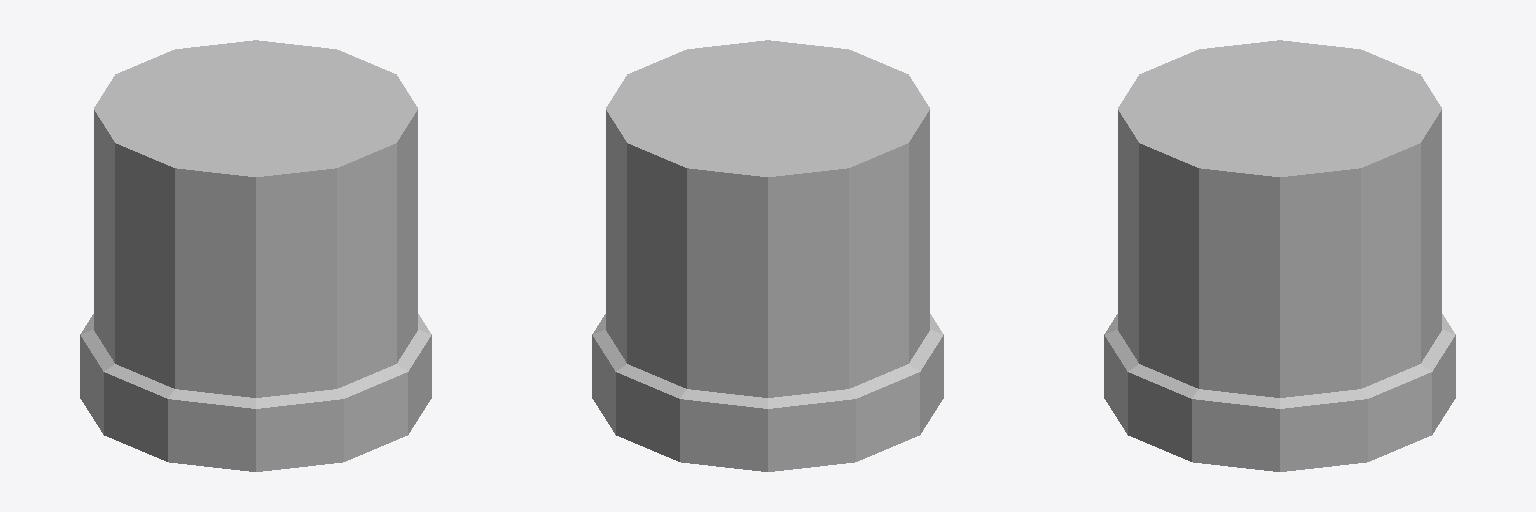
The model's file is ShotgunRim.obj.
The picture shows the model from 3 angles: view 1: azimuth 30°, elevation 25°; view 2: azimuth 150°, elevation 25°; view 3: azimuth 270°, elevation 25°; orthographic projection.
Visible parts, largest first — view 1: ShotgunRim; view 2: ShotgunRim; view 3: ShotgunRim.
Boxes of the visible parts, x1,y1,x2,y2 form: ShotgunRim: [80, 40, 431, 471]; ShotgunRim: [592, 40, 943, 471]; ShotgunRim: [1104, 40, 1455, 471].
Size of the model in its own units: 4.33 by 4 by 4.33.